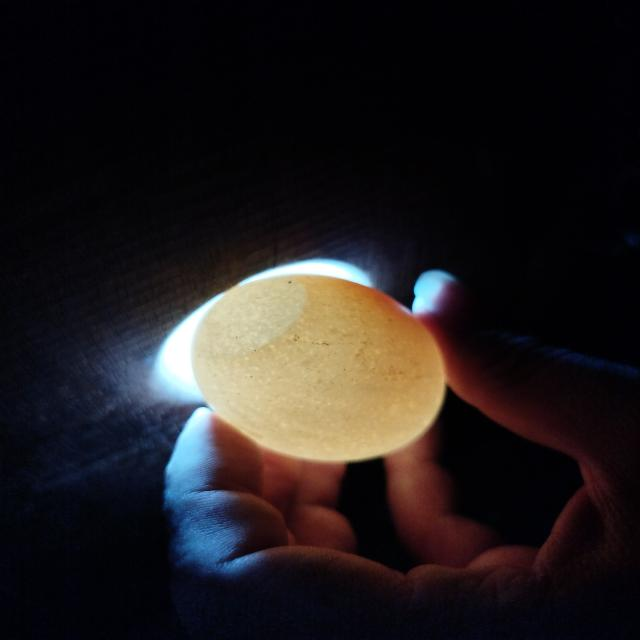Camara de Ar: (191, 276, 303, 357)
Gema Quebrada: (343, 280, 420, 325)
